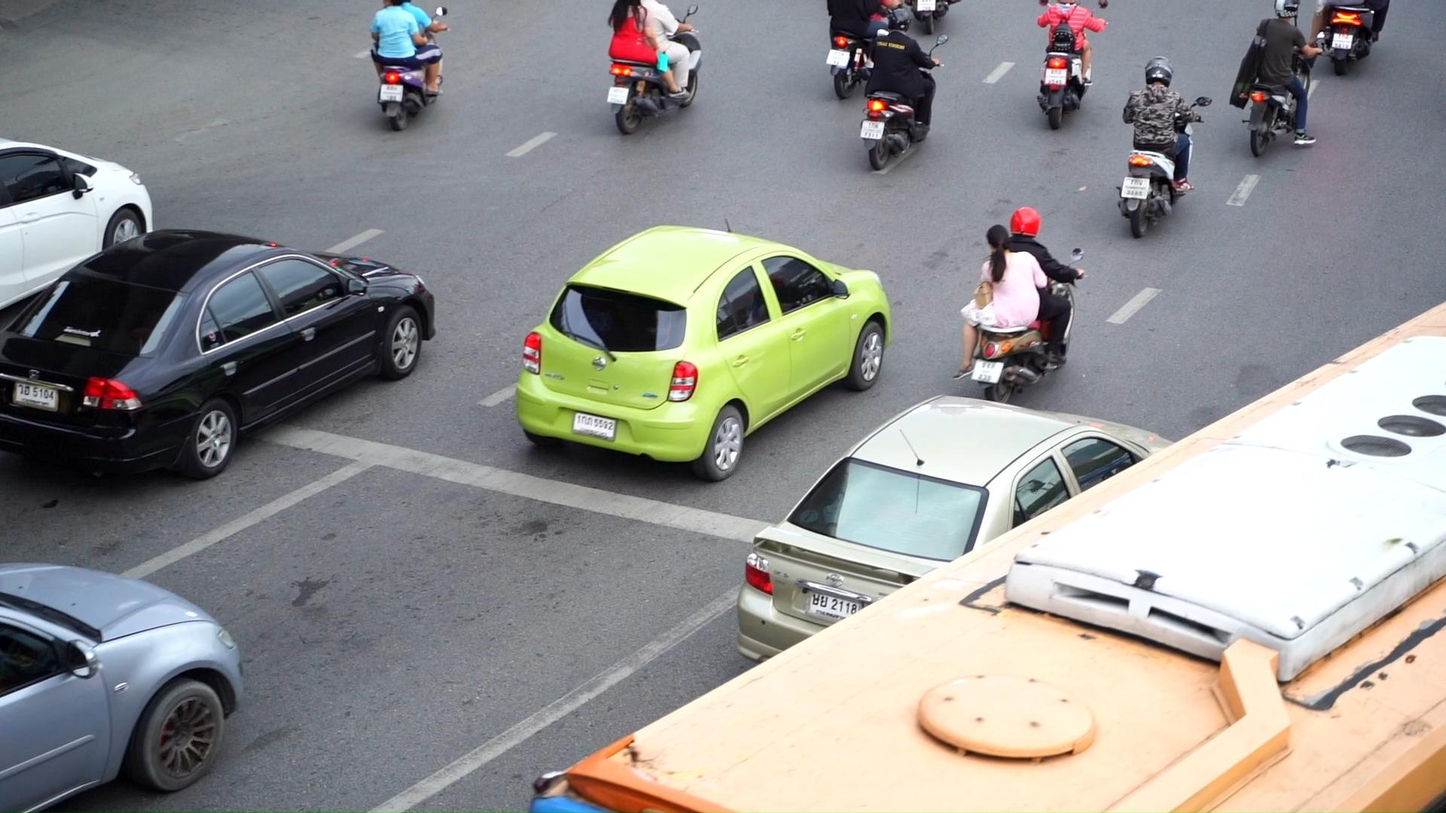driver: (951, 206, 1088, 405), (1115, 55, 1212, 239), (1229, 0, 1330, 157), (860, 8, 949, 171), (607, 1, 703, 135), (370, 0, 451, 131), (1036, 0, 1109, 129)
helmet: (1010, 206, 1040, 238), (1145, 56, 1174, 88), (888, 8, 912, 33), (1273, 0, 1301, 19)
no-helmet: (986, 224, 1009, 251)
